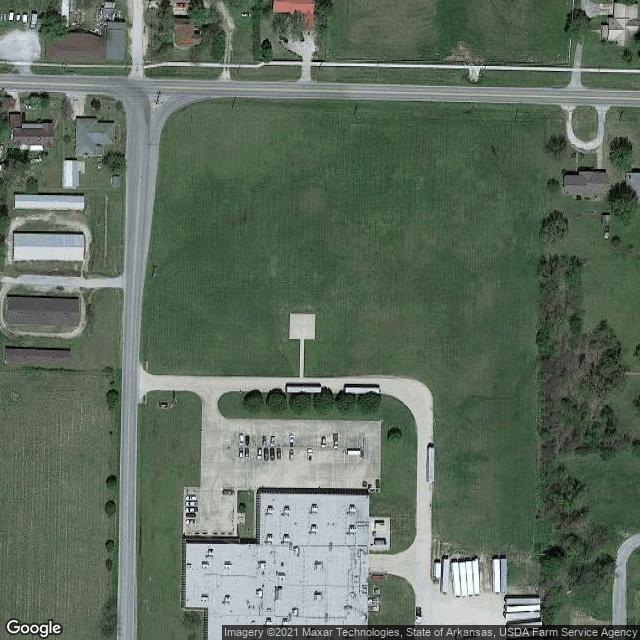Helipad: (286, 310, 320, 341)
